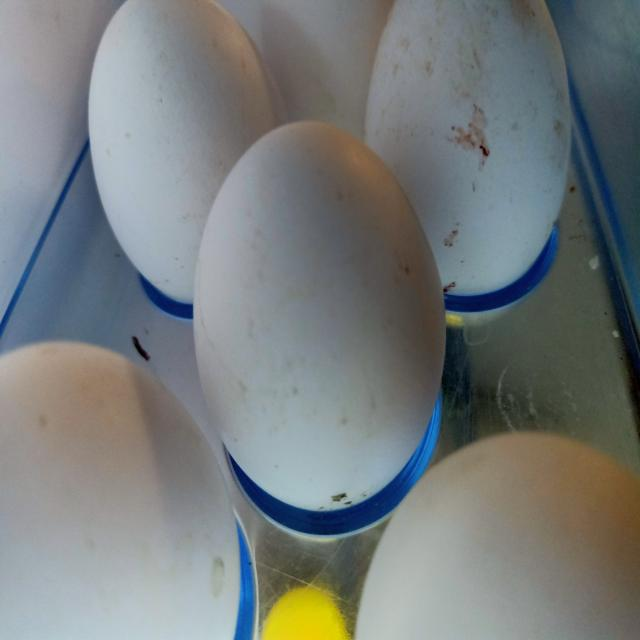Egg: (191, 121, 447, 640), (0, 342, 245, 640), (86, 0, 284, 321)
